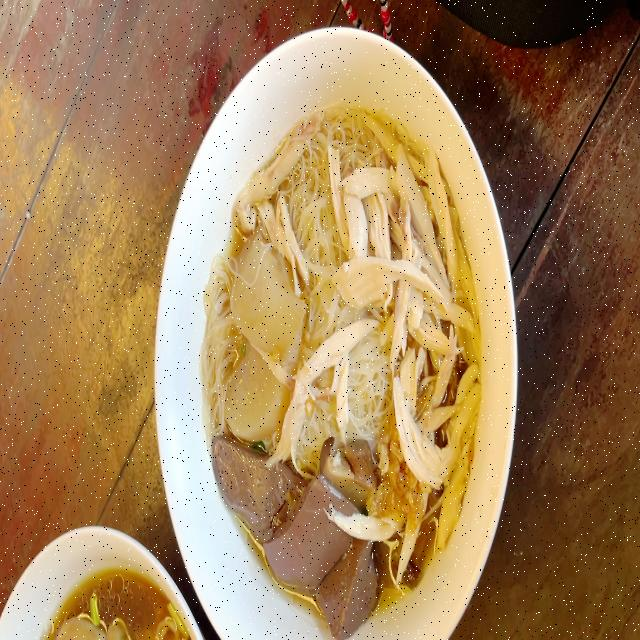boiled_chicken_blood_jelly: (222, 472, 364, 624)
chicken_shredded: (359, 118, 478, 509)
daikon_radish: (226, 231, 299, 441)
noodle: (205, 100, 482, 640), (39, 564, 198, 640)
